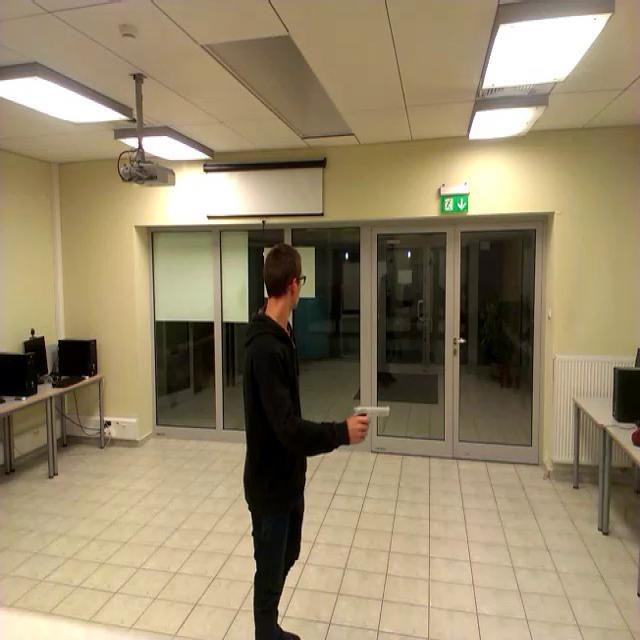Gun: (352, 404, 389, 437)
